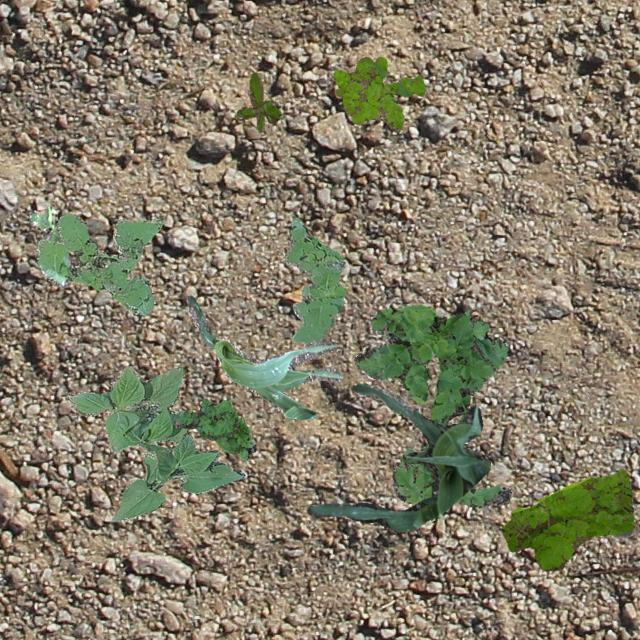crop: (65, 364, 244, 520), (306, 382, 490, 532), (185, 294, 342, 418), (28, 206, 70, 286)
weed: (354, 304, 511, 506), (502, 468, 634, 570), (35, 213, 164, 314), (284, 216, 344, 344), (332, 56, 424, 132), (172, 398, 255, 459), (236, 72, 280, 130)
